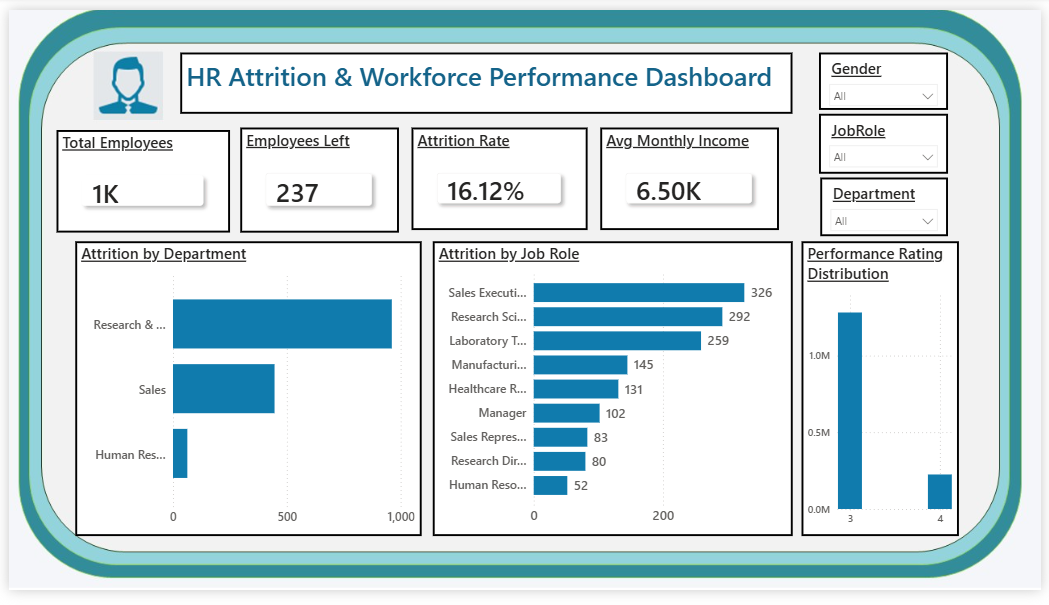

This screenshot's page, from the dashboard's own definition file:
{"tool":"powerbi","page":{"name":"Page 1","canvas":[1280,720],"ordinal":0},"visuals":[{"type":"cardVisual","title":"Total Employees","fields":{"Data":["Raw_Data.Total Employees"]},"box":[58.9,148.8,215.5,127.1],"z":0},{"type":"cardVisual","title":"Employees Left","fields":{"Data":["Raw_Data.Attrition Count"]},"box":[286.8,145.7,196.9,130.2],"z":1000},{"type":"cardVisual","title":"Attrition Rate","fields":{"Data":["Raw_Data.Attrition Rate"]},"box":[499.1,145.7,218.6,127.1],"z":2000},{"type":"cardVisual","title":"Avg Monthly Income","fields":{"Data":["Raw_Data.Average Monthly Income"]},"box":[733.2,145.7,221.7,127.1],"z":3000},{"type":"clusteredBarChart","title":"Attrition by Department","fields":{"Category":["Raw_Data.Department"],"Y":["CountNonNull(Raw_Data.Attrition)"]},"box":[82.2,286.8,429.4,365.8],"z":4000},{"type":"clusteredBarChart","title":"Attrition by Job Role","fields":{"Category":["Raw_Data.JobRole"],"Y":["CountNonNull(Raw_Data.Attrition)"]},"box":[525.5,286.8,446.4,365.8],"z":5000},{"type":"columnChart","title":"Performance Rating Distribution","fields":{"Y":["Sum(Raw_Data.EmployeeNumber)"],"Category":["Raw_Data.PerformanceRating"]},"box":[982.7,286.8,195.3,365.8],"z":6000},{"type":"slicer","fields":{"Values":["Raw_Data.Department"]},"box":[1006,207.7,158.1,72.9],"z":7000},{"type":"slicer","fields":{"Values":["Raw_Data.JobRole"]},"box":[1004,129,159.7,74.4],"z":8000},{"type":"slicer","fields":{"Values":["Raw_Data.Gender"]},"box":[1004.4,52.7,159.7,71.3],"z":9000},{"type":"textbox","box":[212.4,52.7,759.5,76],"z":10000}]}

Visuals, with their boxes in screenshot pixels (x1, y1, x2, y2), scaled from the page's 1280x720 canvas onto the 1049x605 screenshot:
"Total Employees" cardVisual: (x1=48, y1=125, x2=225, y2=232)
"Employees Left" cardVisual: (x1=235, y1=122, x2=396, y2=232)
"Attrition Rate" cardVisual: (x1=409, y1=122, x2=588, y2=229)
"Avg Monthly Income" cardVisual: (x1=601, y1=122, x2=783, y2=229)
"Attrition by Department" clusteredBarChart: (x1=67, y1=241, x2=419, y2=548)
"Attrition by Job Role" clusteredBarChart: (x1=431, y1=241, x2=797, y2=548)
"Performance Rating Distribution" columnChart: (x1=805, y1=241, x2=965, y2=548)
slicer - Raw_Data.Department: (x1=824, y1=175, x2=954, y2=236)
slicer - Raw_Data.JobRole: (x1=823, y1=108, x2=954, y2=171)
slicer - Raw_Data.Gender: (x1=823, y1=44, x2=954, y2=104)
textbox: (x1=174, y1=44, x2=797, y2=108)
